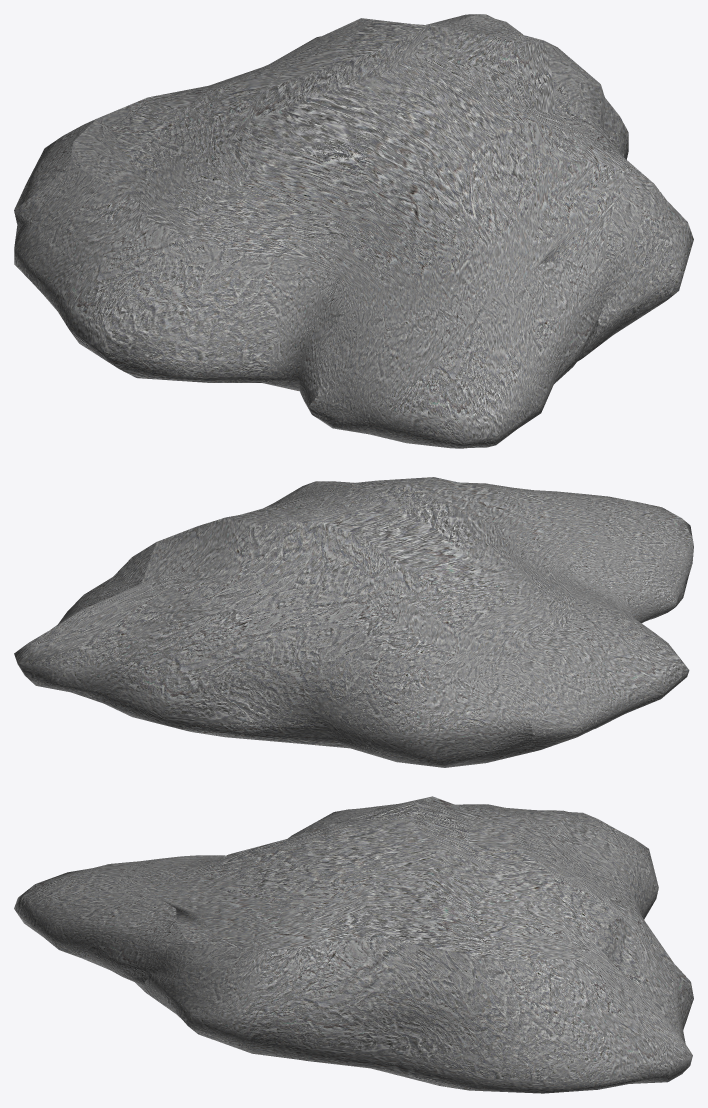
Rendered from MossRock3.FBX.
3 renders of one model, top to bottom at view 1: azimuth 30°, elevation 25°; view 2: azimuth 150°, elevation 25°; view 3: azimuth 270°, elevation 25°, orthographic. The views are drawn at different scales.
Parts seen in each view (by area): view 1: MossRock_05_EX; view 2: MossRock_05_EX; view 3: MossRock_05_EX.
Boxes of the visible parts, x1,y1,x2,y2 form: MossRock_05_EX: (14, 14, 693, 448); MossRock_05_EX: (14, 477, 693, 767); MossRock_05_EX: (14, 796, 693, 1093).
Bounding box in the file's own units: 95.34 × 29.81 × 104.
